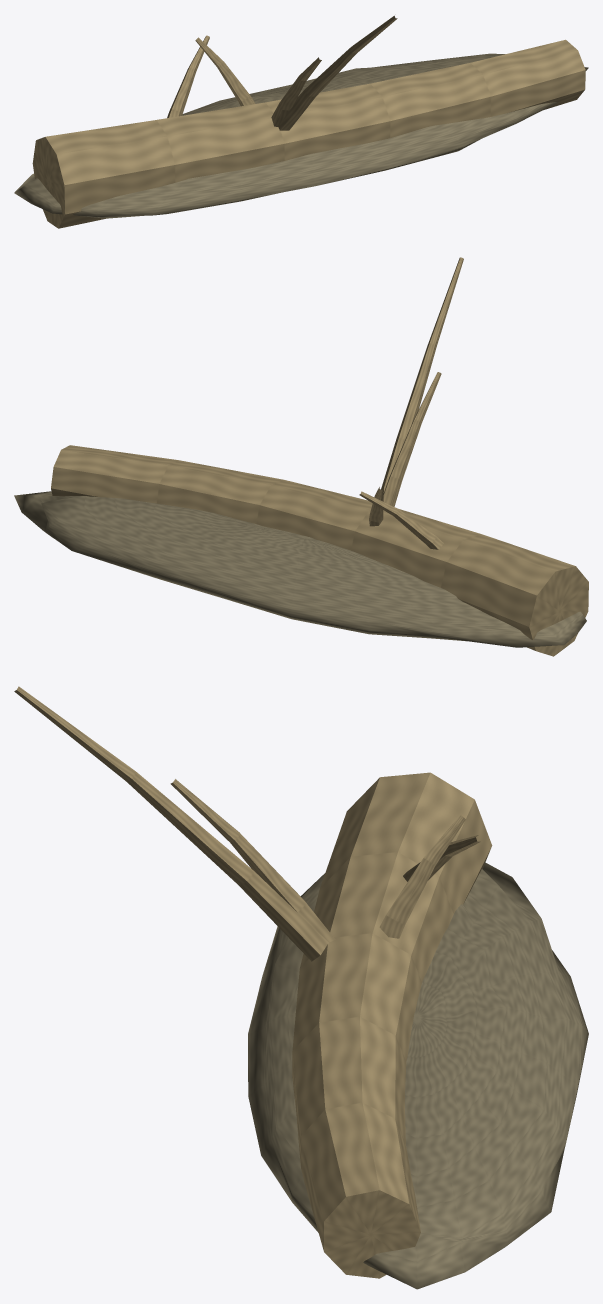
The model's file is half_sunk_log_swamp_and_mangrove_22648.glb.
The picture shows the model from 3 angles, top to bottom: view 1: azimuth 30°, elevation 25°; view 2: azimuth 150°, elevation 25°; view 3: azimuth 270°, elevation 25°; orthographic projection. The views are drawn at different scales.
Visible parts, largest first — view 1: half-sunk-log; view 2: half-sunk-log; view 3: half-sunk-log.
Part boxes in pixels (x1,y1,x2,y2): half-sunk-log: (14,15,588,228); half-sunk-log: (14,257,588,656); half-sunk-log: (14,686,588,1289).
Bounding box in the file's own units: 2.99 × 1.26 × 1.66.
Materials: 2 (2 with a texture image).
